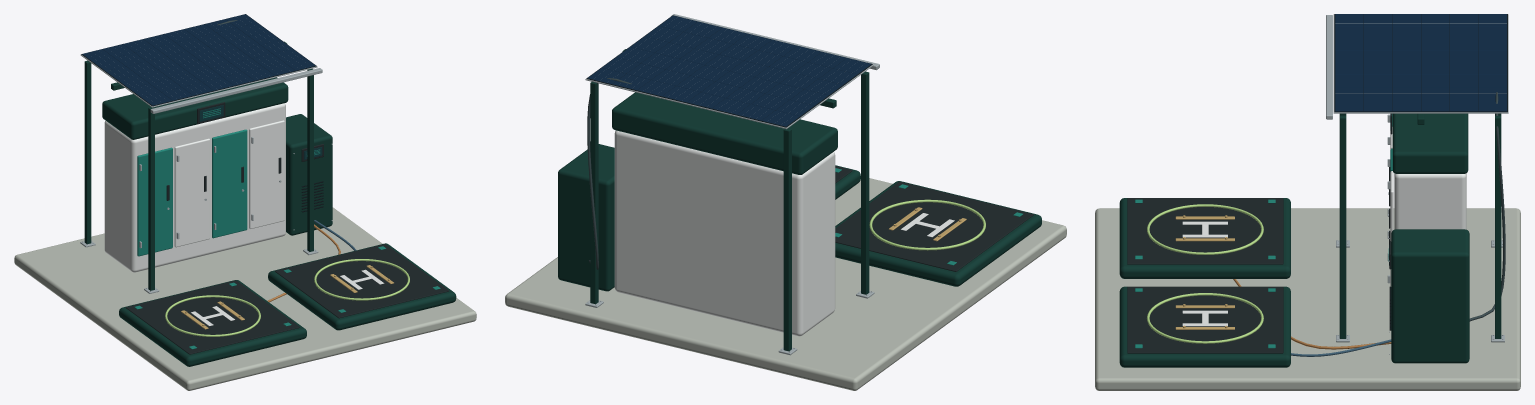
Rendered from 绿航智递_光伏共享站点.glb.
3 renders of one model, left to right at view 1: azimuth 30°, elevation 25°; view 2: azimuth 150°, elevation 25°; view 3: azimuth 270°, elevation 25°, orthographic. The views are drawn at different scales.
Visible parts, largest first — view 1: Foundation_plinth, Replaceable_landing_surface (×2), Folded_aluminium_cabinet, Charging_pad_base (×2), Green_service_header, Energy_edge_cabinet, Aluminium_column (×3), Firstaid_door, Water_door, Umbrella_door, Powerbank_door, Landing_guidance_ring (×2) (+3 smaller); view 2: Folded_aluminium_cabinet, Foundation_plinth, Green_service_header, Replaceable_landing_surface, Energy_edge_cabinet, Aluminium_column (×3), Charging_pad_base, Landing_guidance_ring, PV_backplane, Roof_PV_DC_harness, PV_aluminium_frame, Rainwater_gutter; view 3: Foundation_plinth, Replaceable_landing_surface (×2), Mono_Si_cell (×41), Energy_edge_cabinet, Charging_pad_base (×2), Green_service_header, Folded_aluminium_cabinet, Aluminium_column (×2), Landing_guidance_ring (×2), PV_backplane, Rainwater_gutter, Roof_PV_DC_harness (+1 smaller).
Boxes of the visible parts, <box> form: Foundation_plinth: <box>14,207,476,390</box>; Replaceable_landing_surface (×2): <box>125,244,449,354</box>; Folded_aluminium_cabinet: <box>104,103,285,272</box>; Charging_pad_base (×2): <box>119,243,456,366</box>; Green_service_header: <box>102,77,288,139</box>; Energy_edge_cabinet: <box>286,114,332,235</box>; Aluminium_column (×3): <box>84,60,313,290</box>; Firstaid_door: <box>249,120,284,229</box>; Water_door: <box>212,129,247,238</box>; Umbrella_door: <box>174,138,209,247</box>; Powerbank_door: <box>137,147,172,256</box>; Landing_guidance_ring (×2): <box>165,259,409,336</box>; Folded_aluminium_cabinet: <box>614,130,835,336</box>; Foundation_plinth: <box>505,178,1066,390</box>; Green_service_header: <box>612,92,837,174</box>; Replaceable_landing_surface: <box>835,181,1033,271</box>; Energy_edge_cabinet: <box>558,144,614,291</box>; Aluminium_column (×3): <box>590,71,869,351</box>; Charging_pad_base: <box>835,181,1041,286</box>; Landing_guidance_ring: <box>869,199,985,250</box>; PV_backplane: <box>586,15,872,127</box>; Roof_PV_DC_harness: <box>587,78,631,269</box>; PV_aluminium_frame: <box>585,64,873,129</box>; Rainwater_gutter: <box>671,14,879,70</box>; Foundation_plinth: <box>1095,208,1520,390</box>; Replaceable_landing_surface (×2): <box>1127,198,1283,353</box>; Mono_Si_cell (×41): <box>1335,14,1506,111</box>; Energy_edge_cabinet: <box>1391,229,1469,363</box>; Charging_pad_base (×2): <box>1119,198,1290,367</box>; Green_service_header: <box>1392,113,1468,173</box>; Folded_aluminium_cabinet: <box>1394,173,1466,229</box>; Aluminium_column (×2): <box>1339,115,1501,338</box>; Landing_guidance_ring (×2): <box>1147,204,1263,343</box>; PV_backplane: <box>1334,14,1507,112</box>; Rainwater_gutter: <box>1326,15,1332,119</box>; Roof_PV_DC_harness: <box>1469,92,1505,321</box>.
Bounding box in the file's own units: 3.5 × 2.31 × 3.65.
